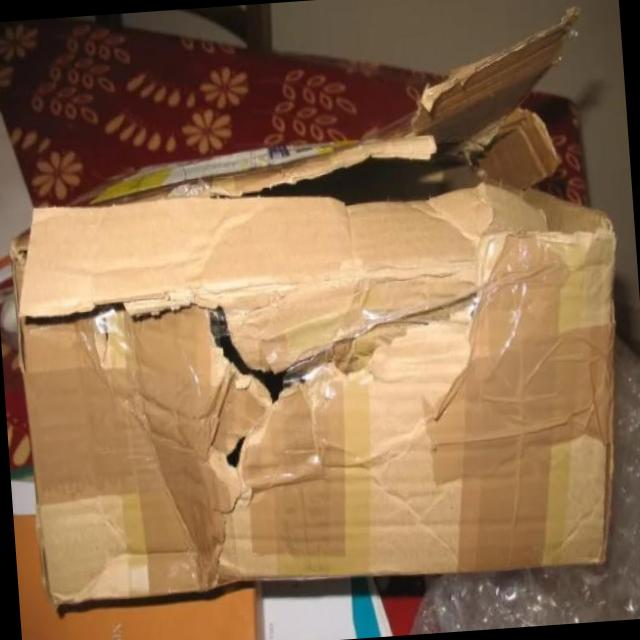box: (26, 21, 607, 601)
crushed: (198, 484, 478, 570), (148, 209, 319, 280)
opened: (88, 29, 580, 197), (97, 289, 437, 469)
